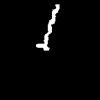half_double_crochet: (36, 5, 58, 49)
